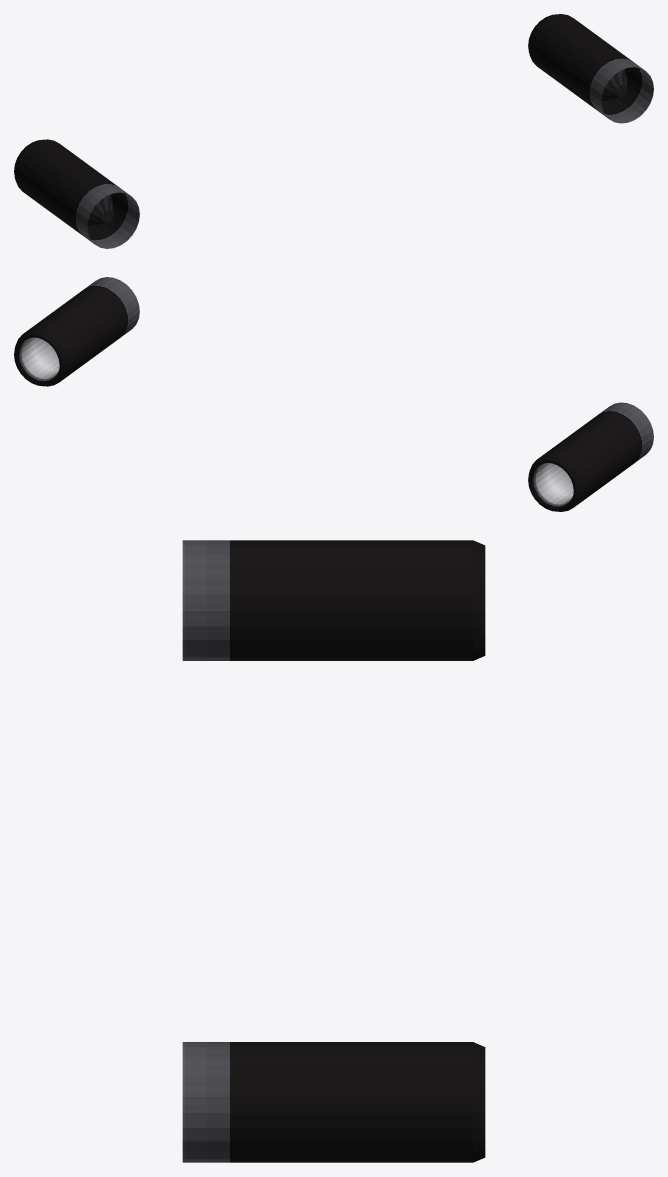
Rendered from exhaust_carbon.obj.
3 renders of one model, top to bottom at view 1: azimuth 30°, elevation 25°; view 2: azimuth 150°, elevation 25°; view 3: azimuth 270°, elevation 25°, orthographic. The views are drawn at different scales.
Size of the model in its own units: 0.992 by 0.092 by 0.2293.
1 material, 1 textured.
